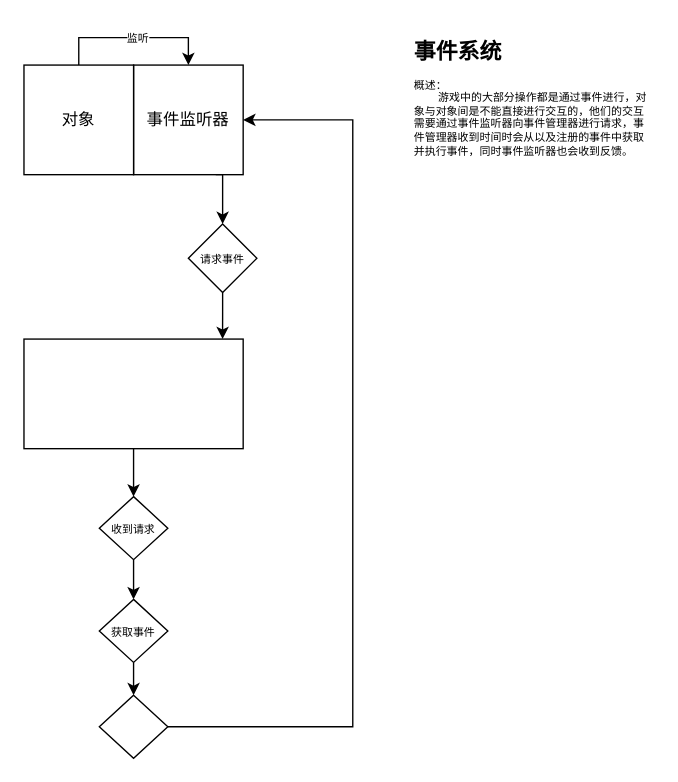
Some shapes in this 678 by 782 pixel diagram are drawn without their labels. Each missing label, with the centre of its shape:
"事件管理器" belongs at pixel 133 393.
"发送事件" belongs at pixel 133 726.
